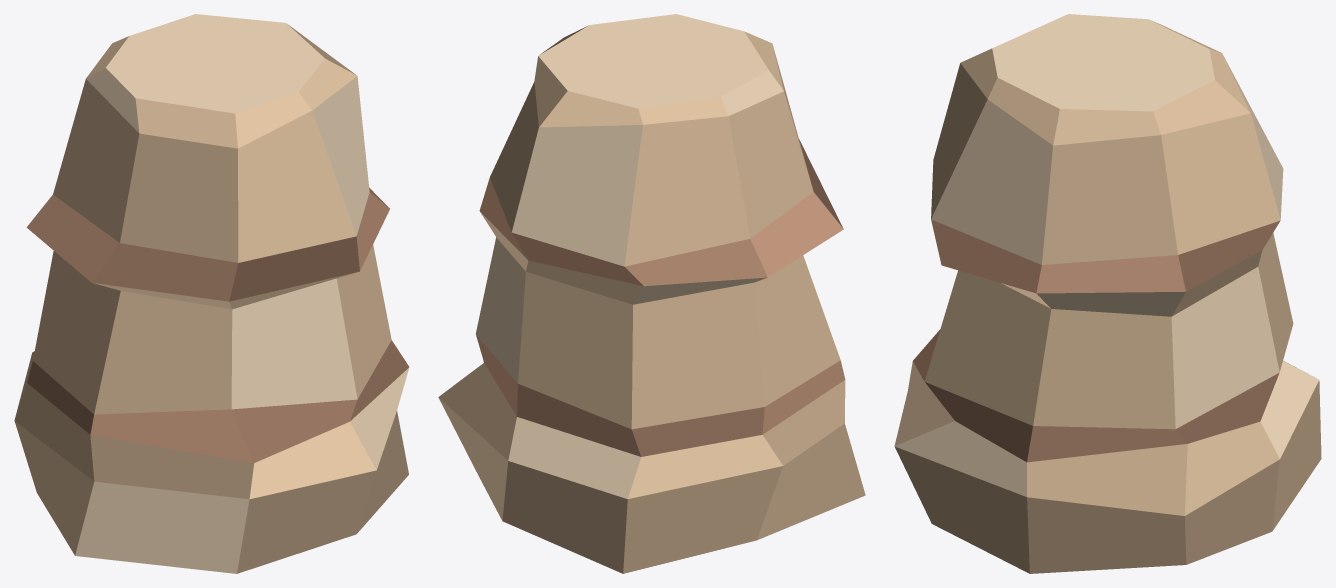
The model's file is Cliff.fbx.
3 views of the same model, side by side, from view 1: azimuth 30°, elevation 25°; view 2: azimuth 150°, elevation 25°; view 3: azimuth 270°, elevation 25° (orthographic). The views are drawn at different scales.
Visible parts, largest first — view 1: Cliff; view 2: Cliff; view 3: Cliff.
Part boxes in pixels (x1,y1,x2,y2): Cliff: (14, 14, 409, 573); Cliff: (438, 14, 865, 573); Cliff: (894, 14, 1321, 573).
Size of the model in its own units: 4.37 by 4.98 by 4.44.
